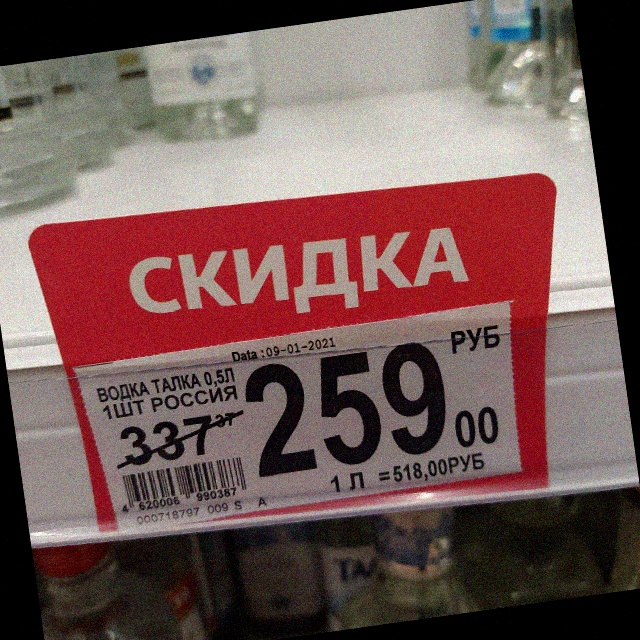barcode: (114, 456, 247, 515)
name: (96, 365, 241, 418)
price: (243, 337, 505, 488)
price_tag: (71, 300, 524, 533)
